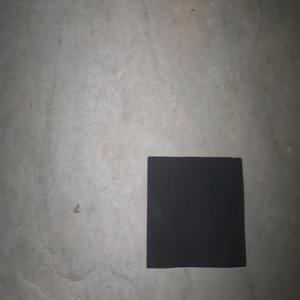PaintChip: (146, 156, 246, 268)
